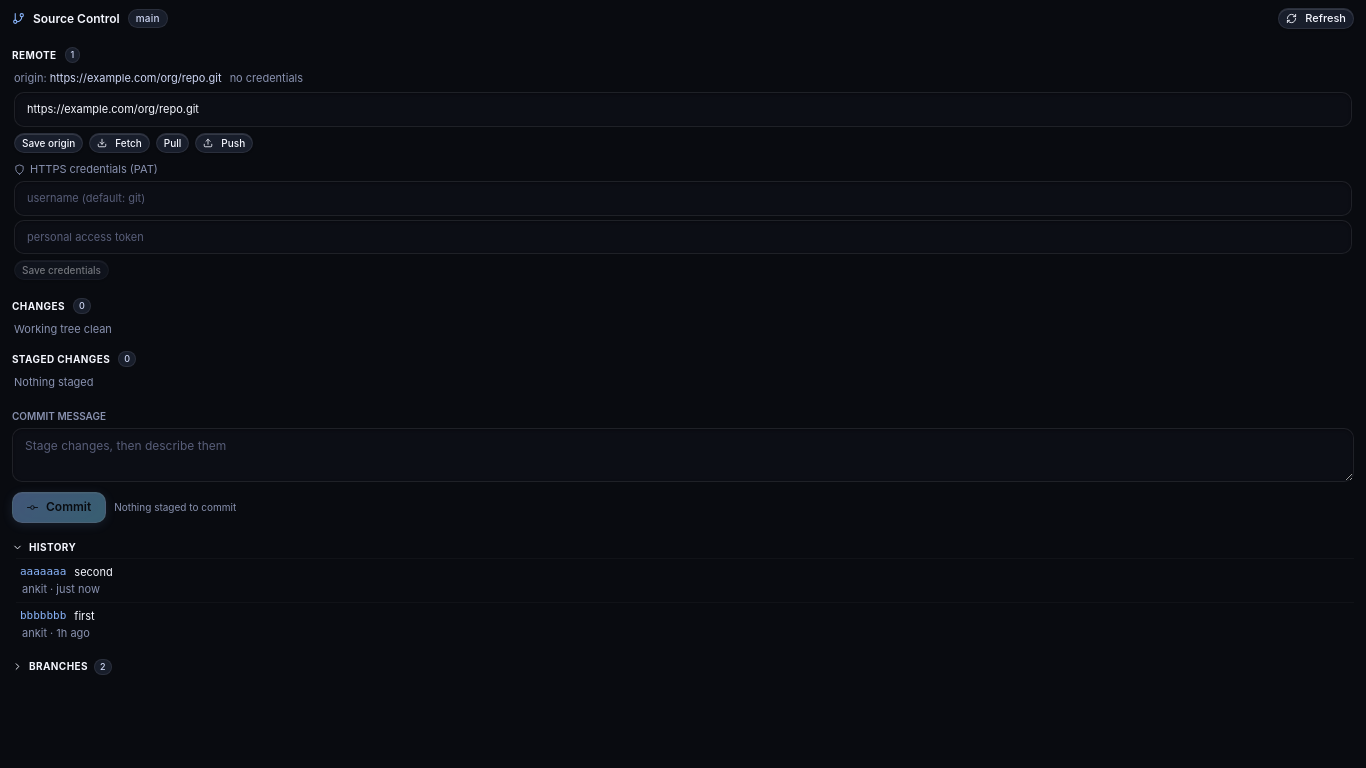
it: SourceControlPanel — M51 › M80. pull 409 divergence shows a banner and does not reconcile
The width and height of the screenshot is (1366, 768).
What coordinates should you click on to do the following:
click the button "Pull"
I would click on:
 (173, 143)
Its box is [156,133,189,153].
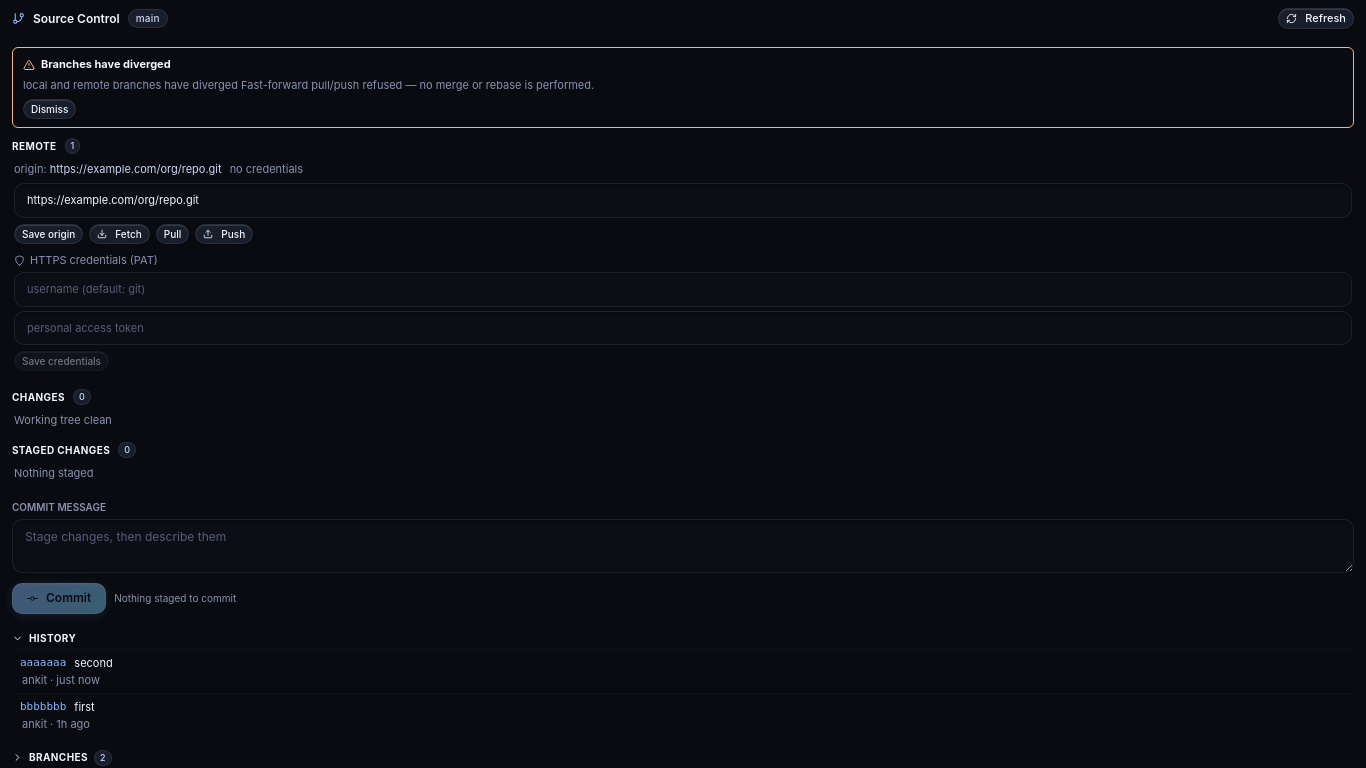
Check: the element with test id "git-divergence" shows "diverged", box [41,57,171,71]
